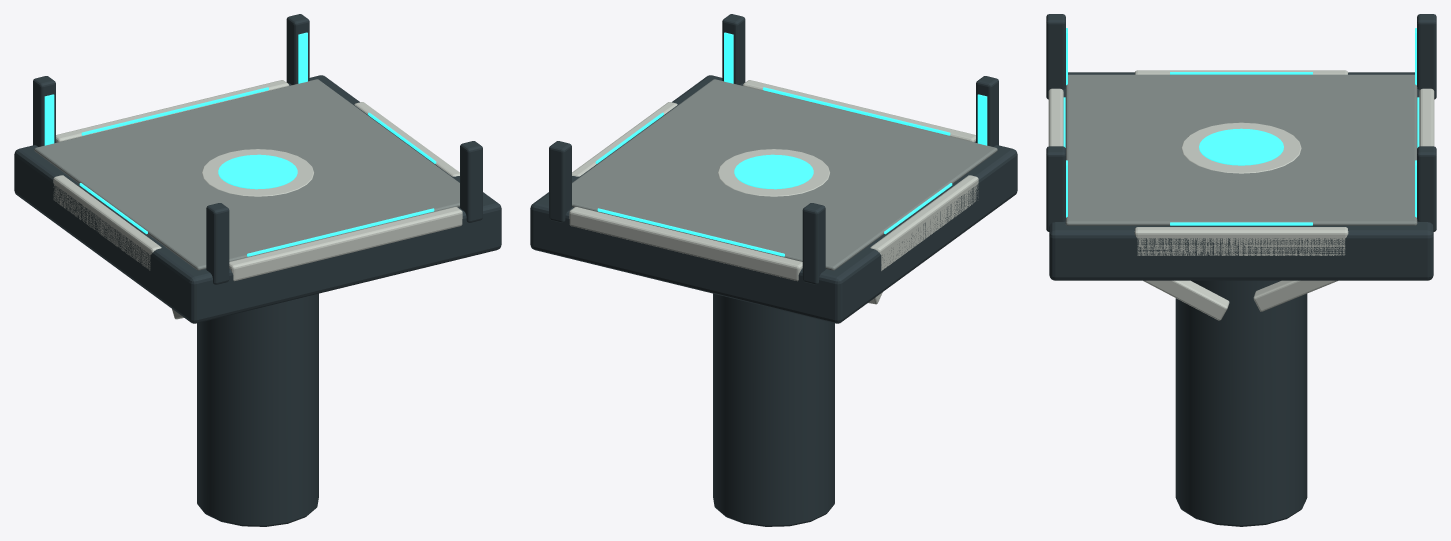
The model's file is runway_base_kit.glb.
The picture shows the model from 3 angles, left to right: view 1: azimuth 30°, elevation 25°; view 2: azimuth 150°, elevation 25°; view 3: azimuth 270°, elevation 25°; orthographic projection. The views are drawn at different scales.
Parts seen in each view (by area): view 1: Runwaygraphite, Runwaydeck, Runwayceramic, Neutralsignal; view 2: Runwaygraphite, Runwaydeck, Runwayceramic, Neutralsignal; view 3: Runwaygraphite, Runwaydeck, Runwayceramic, Neutralsignal.
Part boxes in pixels (<box>): Runwaygraphite: <box>14,14,501,526</box>; Runwaydeck: <box>34,79,459,270</box>; Runwayceramic: <box>53,80,462,319</box>; Neutralsignal: <box>44,32,436,256</box>; Runwaygraphite: <box>530,14,1017,526</box>; Runwaydeck: <box>572,79,997,270</box>; Runwayceramic: <box>569,80,978,304</box>; Neutralsignal: <box>595,32,987,256</box>; Runwaygraphite: <box>1046,14,1436,526</box>; Runwaydeck: <box>1065,74,1417,225</box>; Runwayceramic: <box>1048,70,1434,320</box>; Neutralsignal: <box>1063,28,1419,225</box>.
Bounding box in the file's own units: 14 × 16.75 × 14.22.
